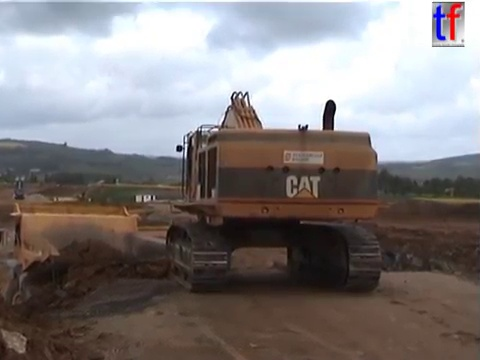excavator: (160, 87, 386, 294), (73, 179, 110, 205)
truck: (1, 200, 215, 322), (77, 203, 177, 256)
